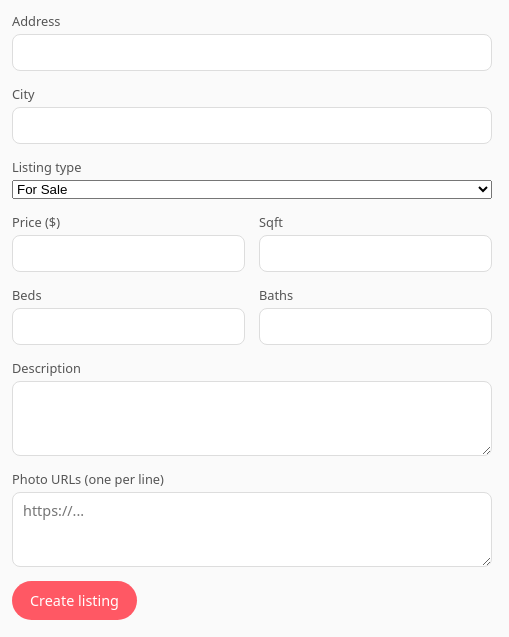
PropertyForm › listing type › switches the price field label to 'Monthly rent ($)' when Rent is selected
Select "For Rent" in the dropdown labelled "Listing type" at (252, 190), box x1=12 y1=180 x2=492 y2=199
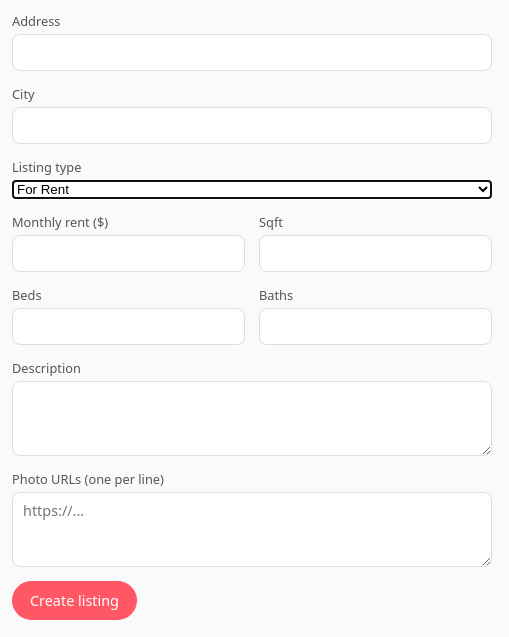
Check: the text "Monthly rent ($)" is shown, box x1=12 y1=213 x2=108 y2=231
